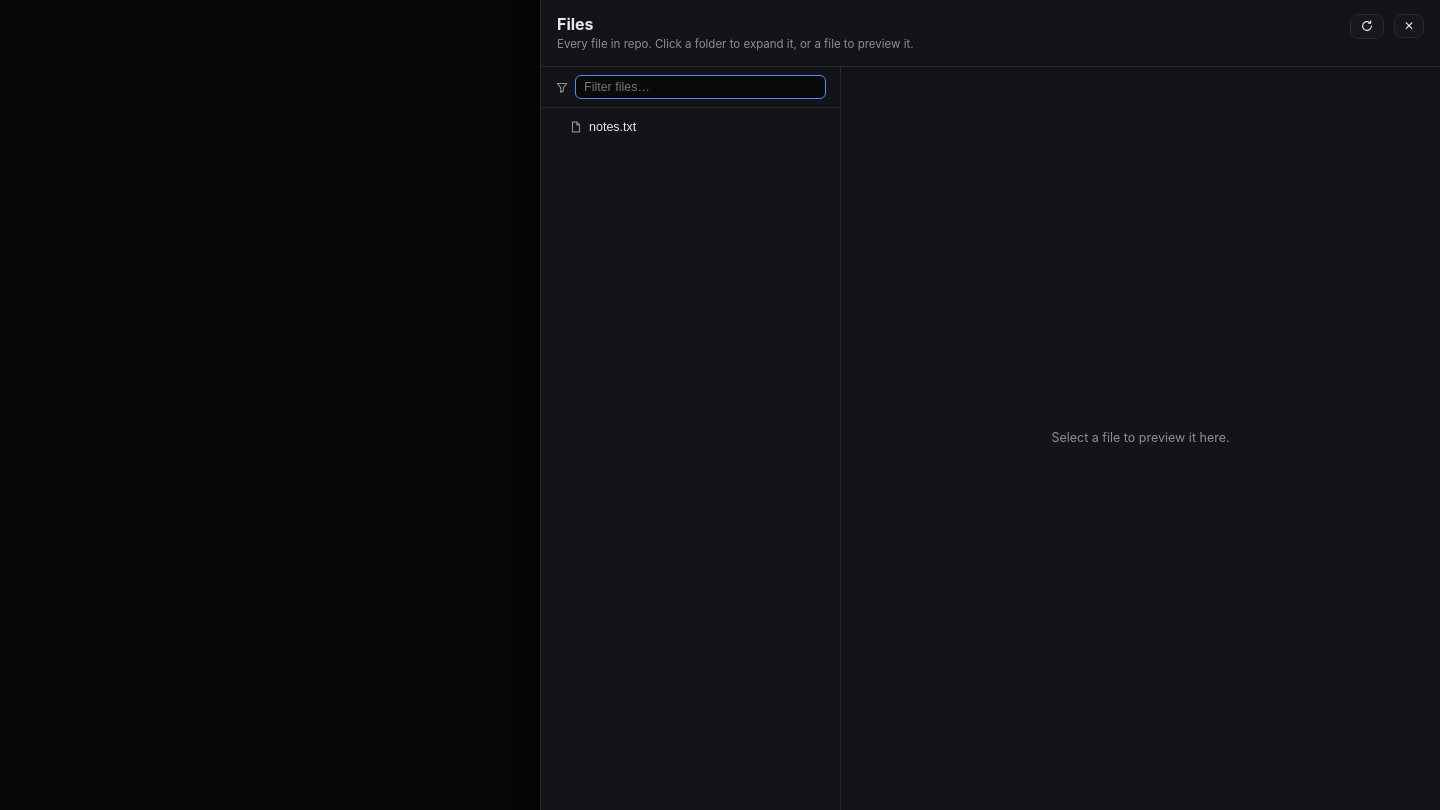
Test case: FilesPanel › previews a file in-app when clicked
What coordinates should you click on to do the following:
click the button "notes.txt"
I would click on:
 (613, 127)
Its box is 551,116 -> 840,138.
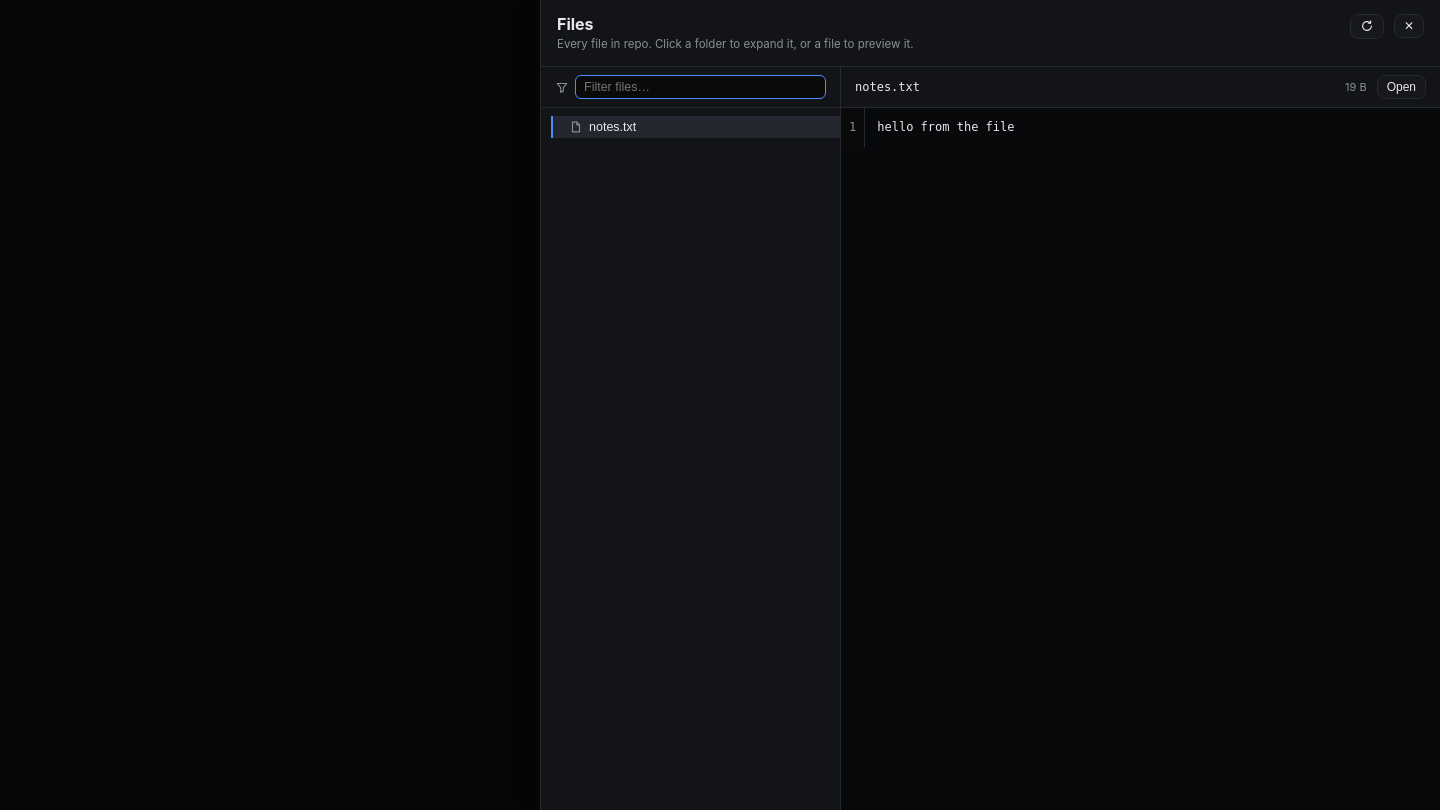
expect the text "hello from the file" is shown: met, box 877,120 -> 1014,134
